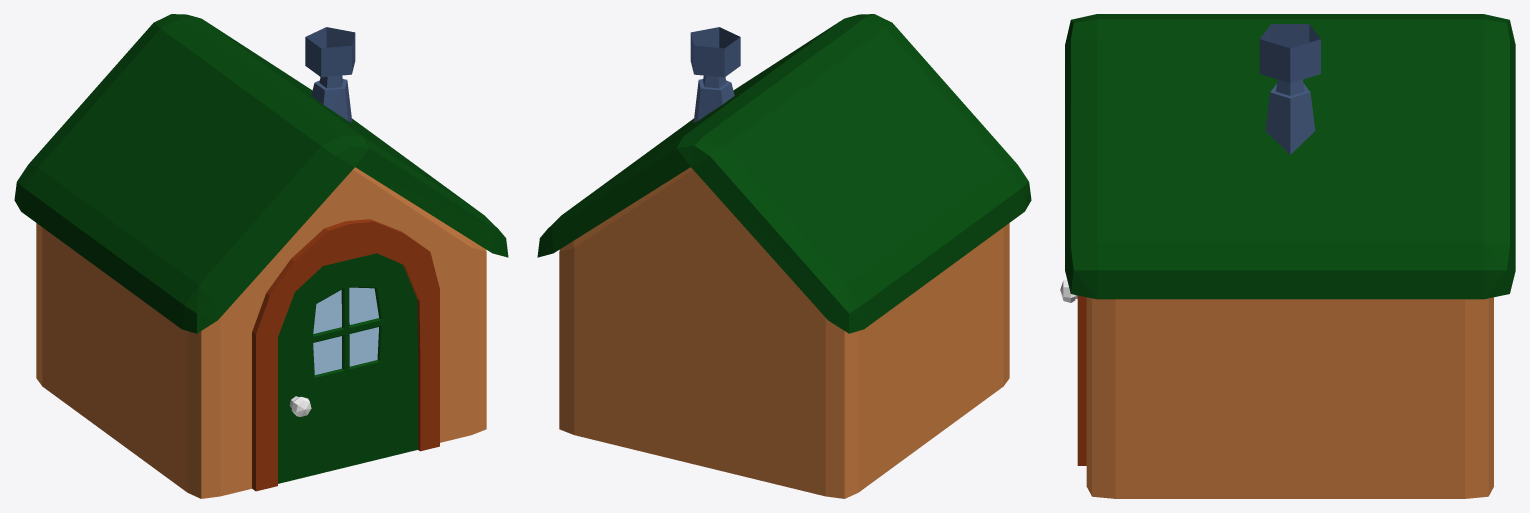
Rendered from house_green.fbx.
3 renders of one model, left to right at view 1: azimuth 30°, elevation 25°; view 2: azimuth 150°, elevation 25°; view 3: azimuth 270°, elevation 25°, orthographic. The views are drawn at different scales.
Visible parts, largest first — view 1: house; view 2: house; view 3: house.
Boxes of the visible parts, x1=… form: house: x1=14, y1=14, x2=508, y2=498; house: x1=537, y1=14, x2=1031, y2=498; house: x1=1060, y1=14, x2=1515, y2=498.
Bounding box in the file's own units: 273 × 284 × 280.
